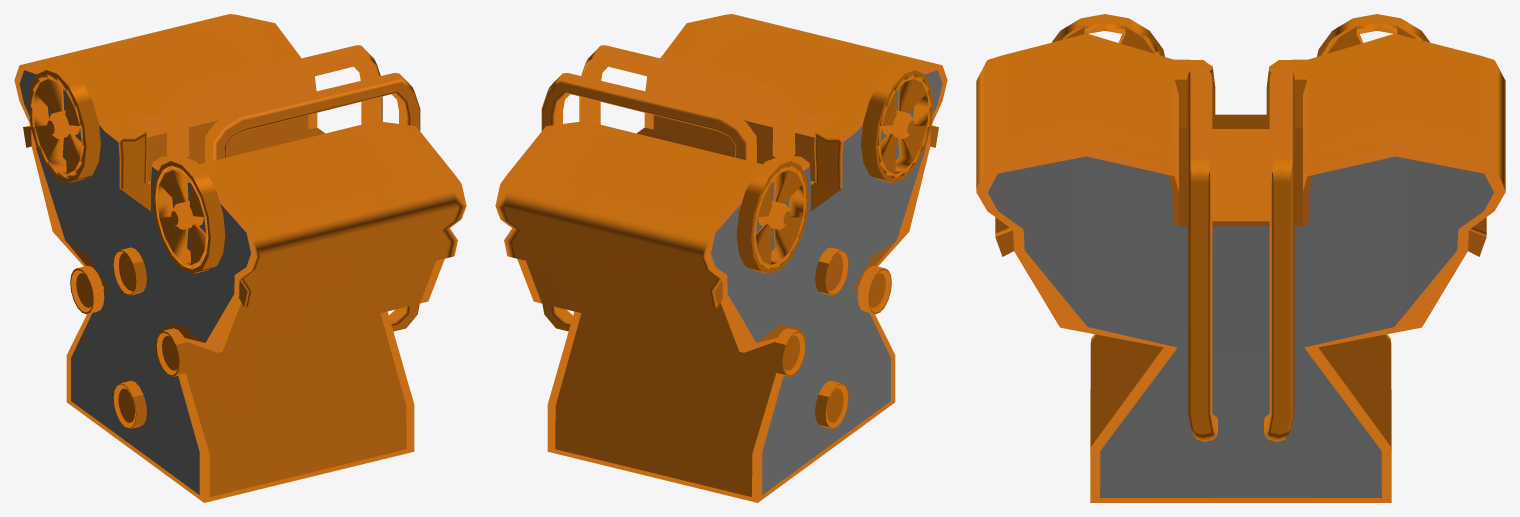
Rendered from MotorCarro.fbx.
3 views of the same model, side by side, from view 1: azimuth 30°, elevation 25°; view 2: azimuth 150°, elevation 25°; view 3: azimuth 270°, elevation 25° (orthographic). The views are drawn at different scales.
Visible parts, largest first — view 1: MotorCarro; view 2: MotorCarro; view 3: MotorCarro.
Part boxes in pixels (bbox=[...]): MotorCarro: bbox=[14, 14, 466, 502]; MotorCarro: bbox=[495, 14, 947, 502]; MotorCarro: bbox=[976, 14, 1505, 502].
Bounding box in the file's own units: 51.42 × 57.68 × 75.07.
